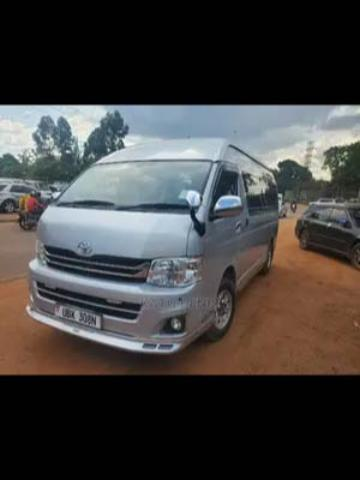car: (294, 198, 360, 265)
van: (24, 135, 279, 353)
